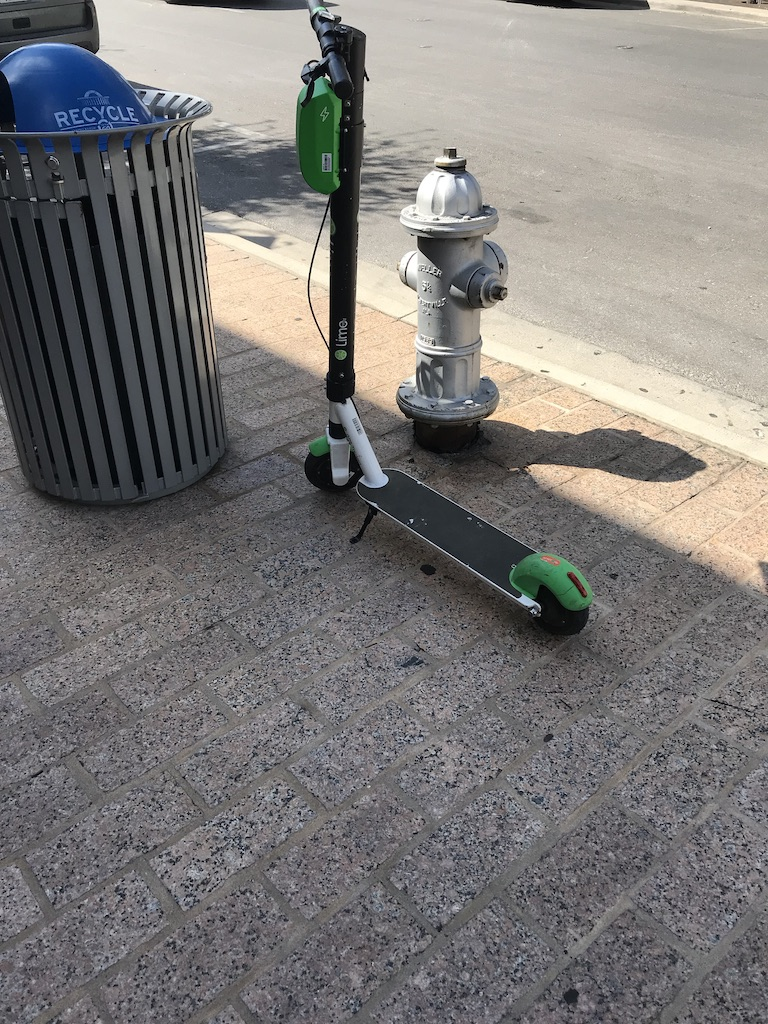scooter: (294, 6, 596, 639)
